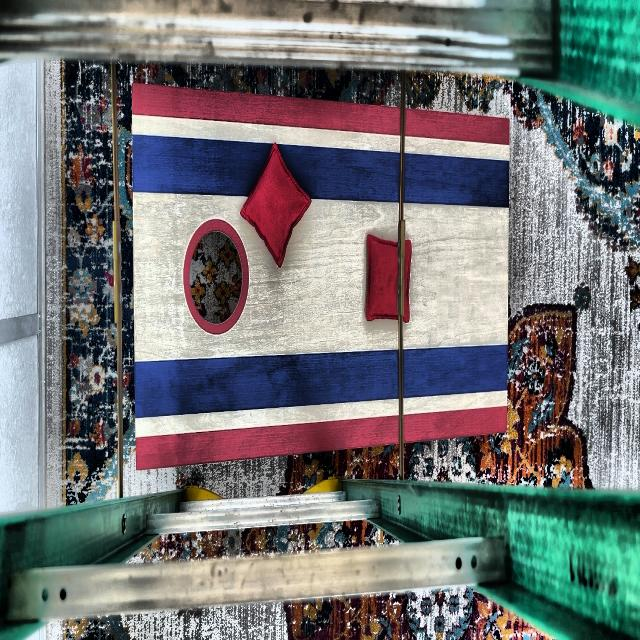board: (135, 121, 505, 429)
hole: (183, 218, 250, 336)
red-bean-bag: (241, 142, 311, 266), (368, 236, 411, 322)
